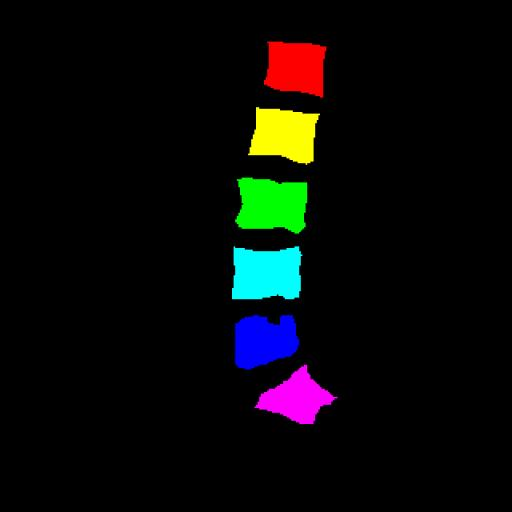L1: (264, 42, 326, 98)
L2: (249, 107, 319, 164)
L3: (235, 178, 307, 234)
L4: (232, 247, 301, 299)
L5: (235, 315, 299, 368)
S1: (255, 365, 337, 424)
